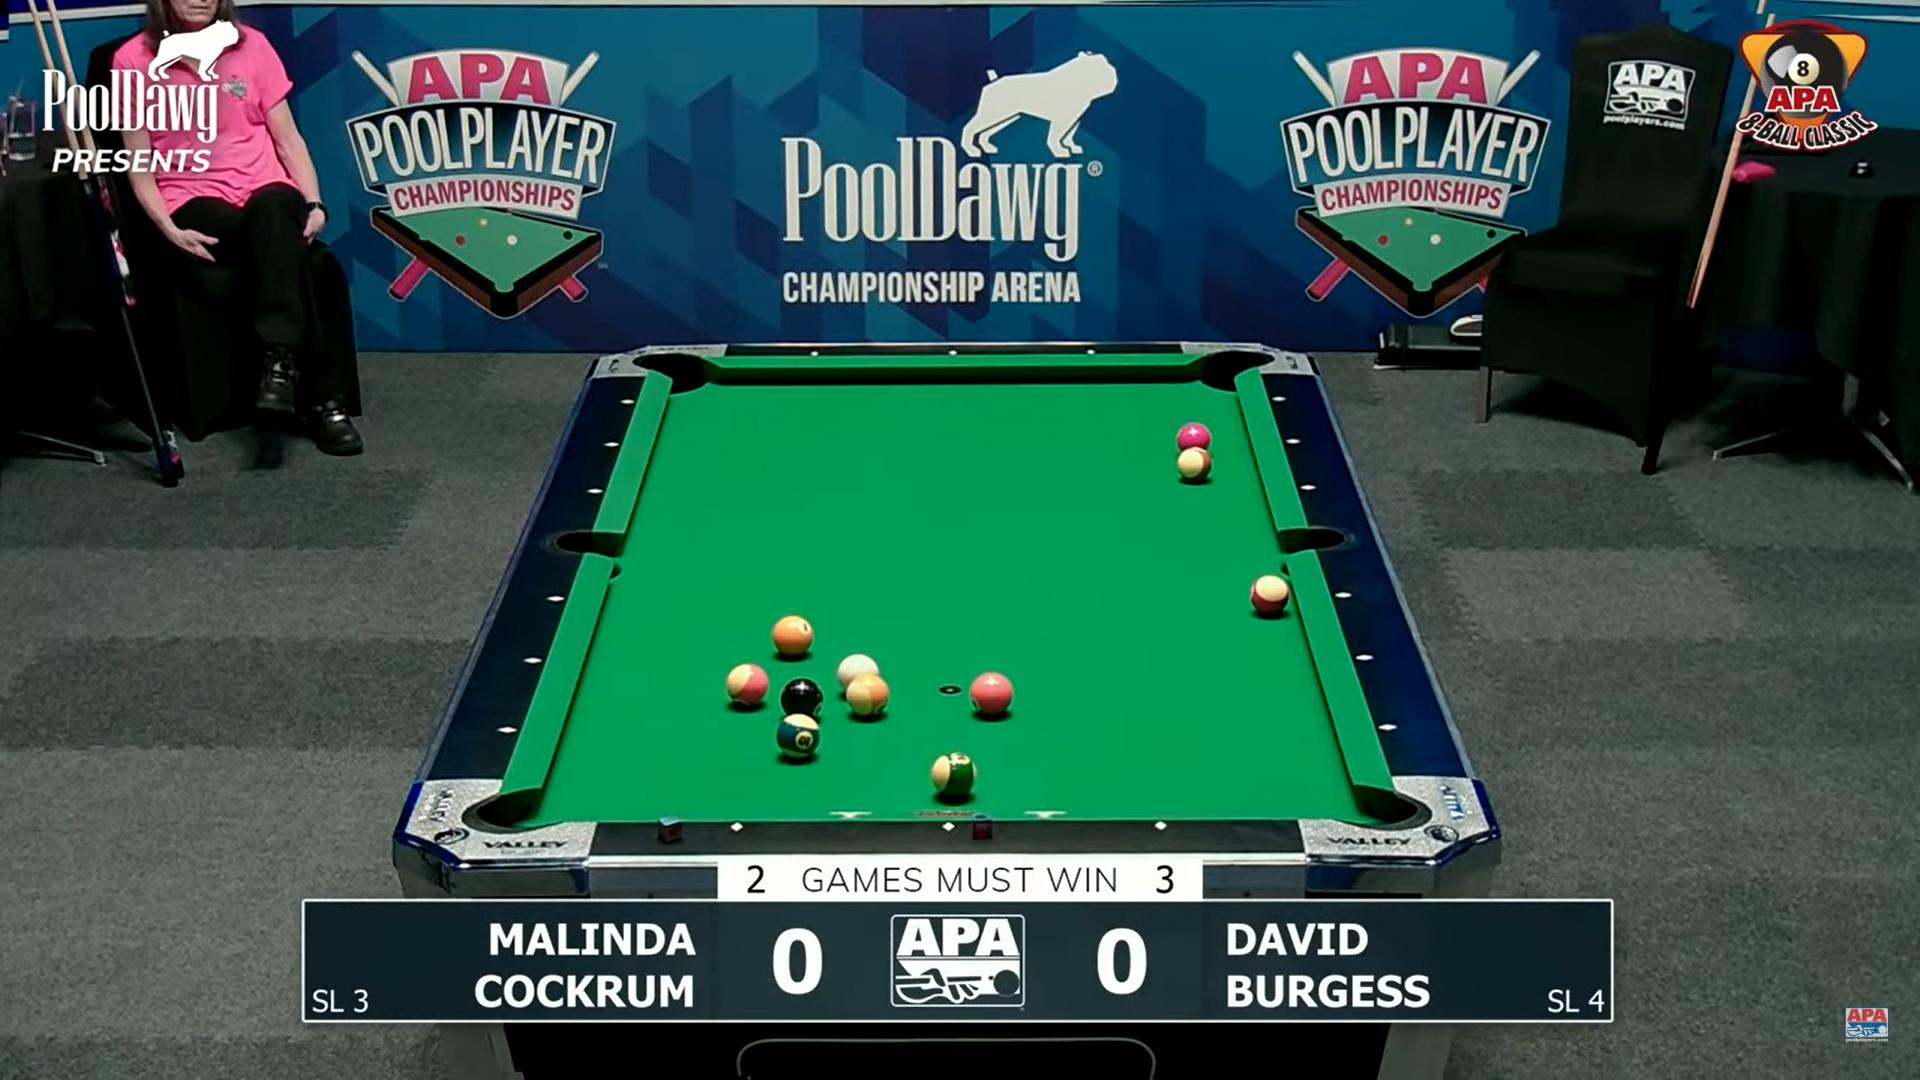Black: (781, 678, 823, 717)
Cue: (836, 654, 880, 692)
Dot: (1377, 717, 1396, 737), (1335, 587, 1353, 607), (1356, 647, 1374, 666), (498, 720, 517, 738), (546, 588, 564, 607), (604, 436, 622, 455), (525, 653, 543, 670), (587, 481, 604, 498), (729, 819, 744, 833), (942, 820, 956, 835), (1273, 392, 1287, 406), (1154, 818, 1168, 831), (1302, 481, 1316, 495), (1287, 434, 1302, 447), (621, 397, 633, 410), (808, 348, 819, 360), (1085, 347, 1097, 357), (948, 348, 959, 359)
Solid: (972, 673, 1015, 713), (773, 615, 814, 655), (1178, 423, 1211, 451)
Striped: (932, 752, 977, 798), (777, 715, 822, 758), (847, 674, 890, 717), (727, 663, 769, 708), (1250, 575, 1291, 615), (1178, 446, 1212, 481)
